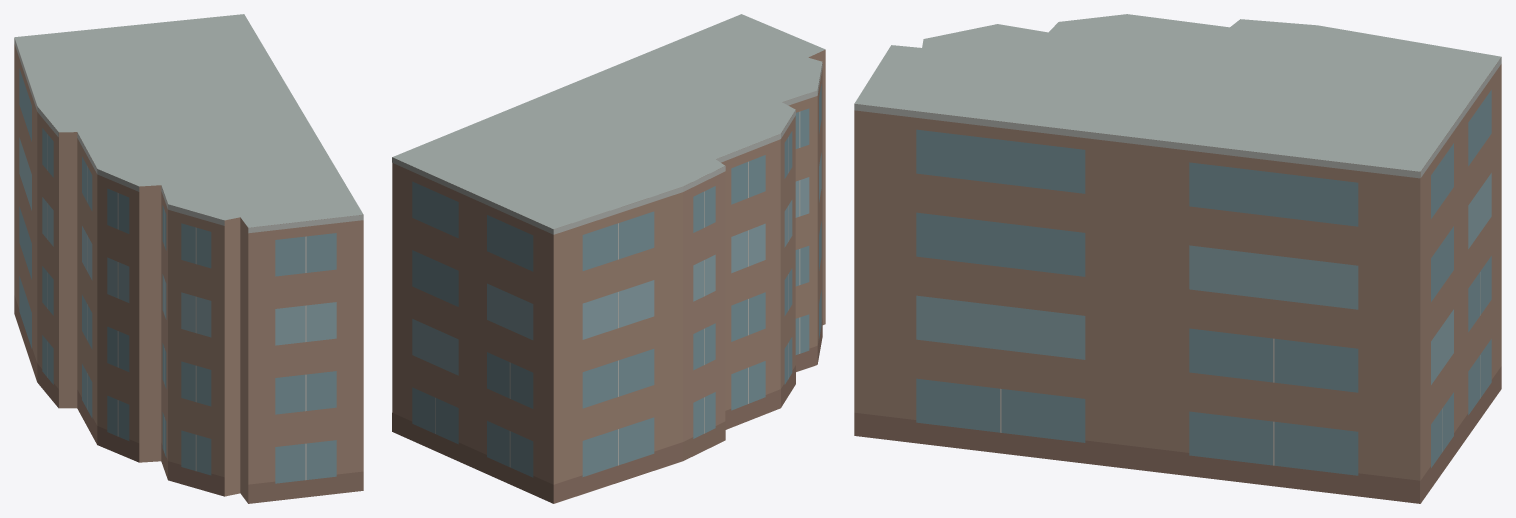
Rendered from survey-upis-32830327.glb.
3 renders of one model, left to right at view 1: azimuth 30°, elevation 25°; view 2: azimuth 150°, elevation 25°; view 3: azimuth 270°, elevation 25°, orthographic. The views are drawn at different scales.
Visible parts, largest first — view 1: survey-upis-32830327.tmp; view 2: survey-upis-32830327.tmp; view 3: survey-upis-32830327.tmp.
Part boxes in pixels (<box>): survey-upis-32830327.tmp: <box>14,14,363,503</box>; survey-upis-32830327.tmp: <box>392,14,825,503</box>; survey-upis-32830327.tmp: <box>854,14,1501,503</box>.
Size of the model in its own units: 12.44 by 12.2 by 21.56.
